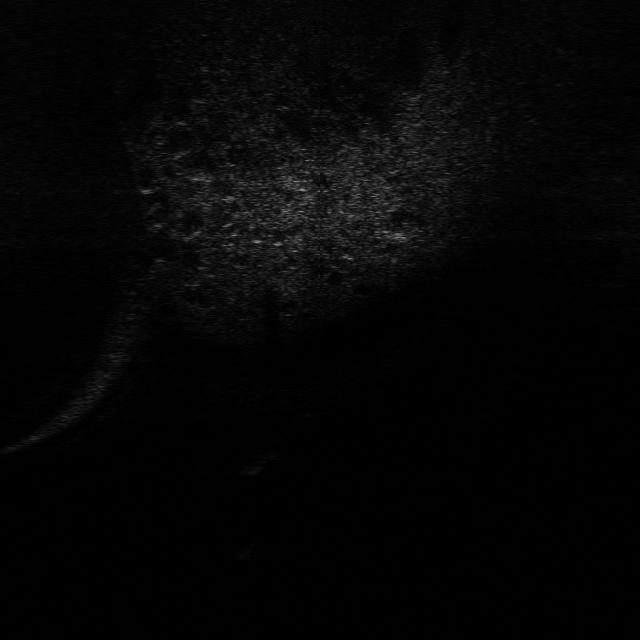cylinder: (238, 447, 284, 476)
